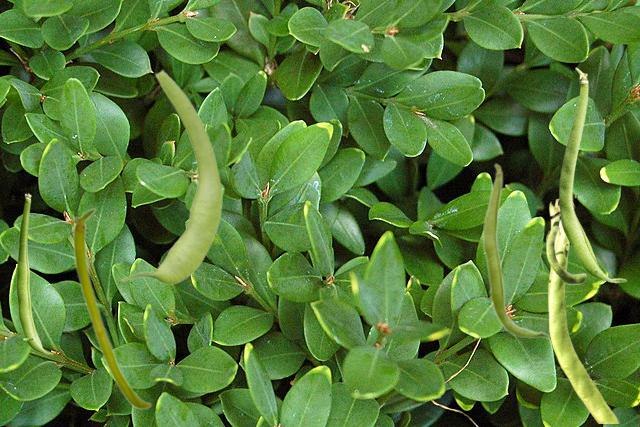french_bean: (120, 68, 222, 283), (545, 198, 618, 422), (72, 207, 151, 409), (559, 67, 626, 282), (481, 162, 550, 339), (16, 193, 53, 353)
